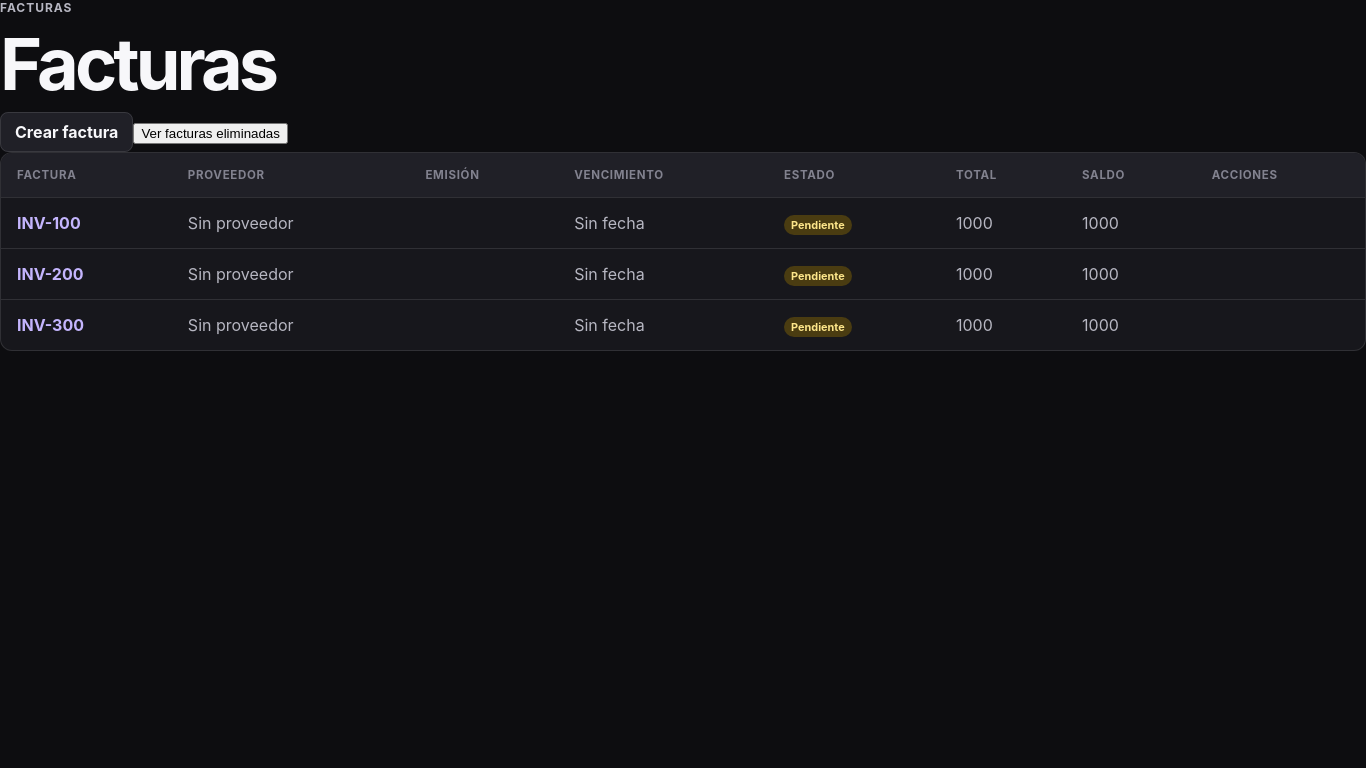
InvoiceListPage › shows retained invoices only through the deleted filter and restores them after confirmation
Expected: the link "INV-100" is shown, x1=17 y1=213 x2=81 y2=233
Click the button "Ver facturas eliminadas" at (211, 133), box x1=133 y1=123 x2=288 y2=144
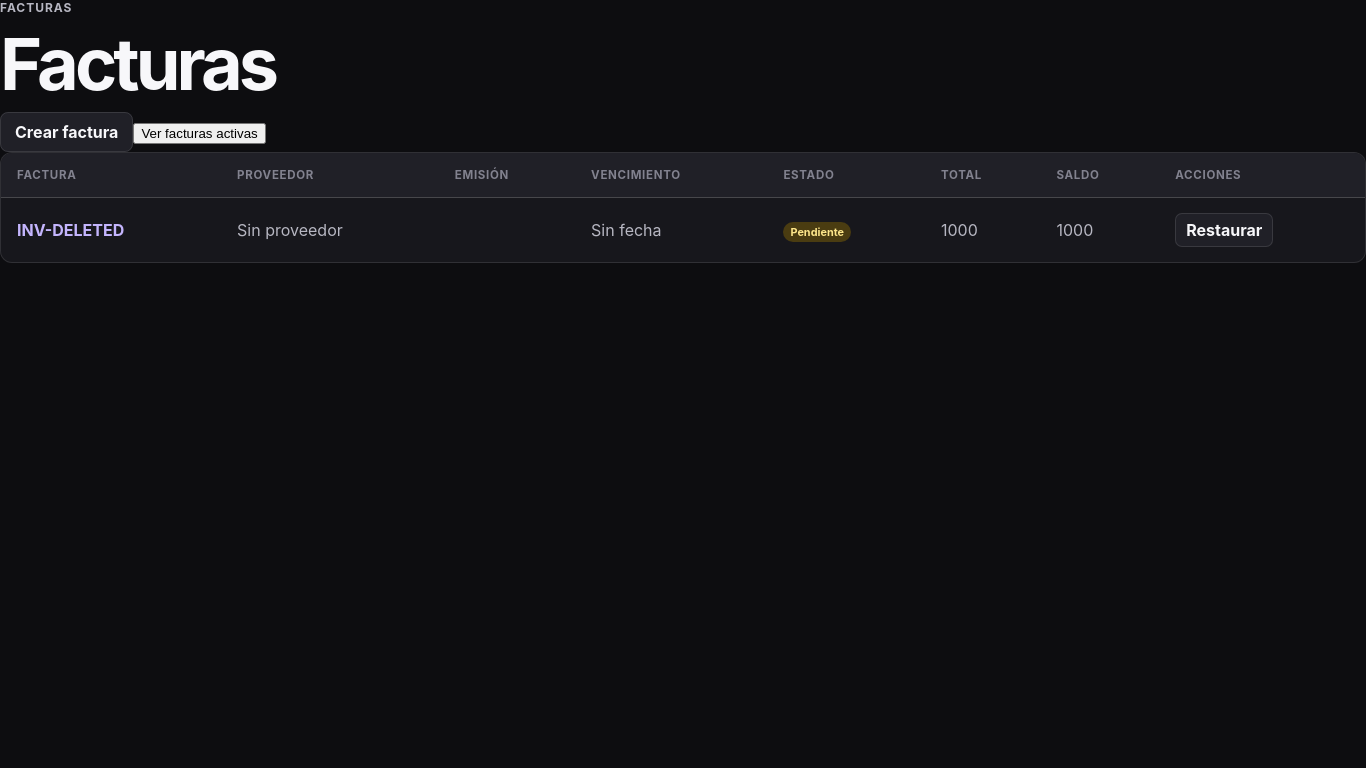
Now the link "INV-DELETED" is shown, box x1=17 y1=220 x2=124 y2=240
Now the link "INV-100" is gone
Click the button "Restaurar" at (1224, 230), box x1=1175 y1=213 x2=1273 y2=247
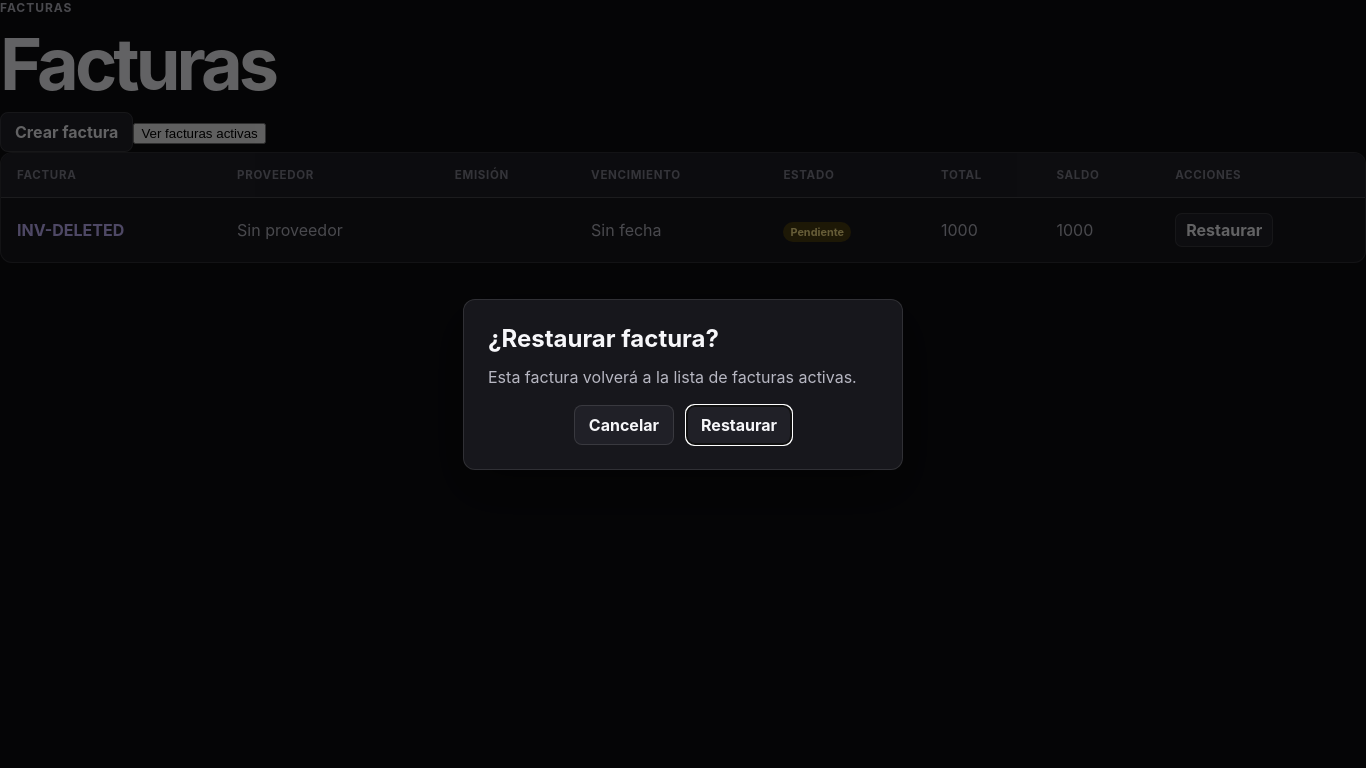
Now the dialog shows "¿Restaurar factura?", box x1=488 y1=324 x2=719 y2=352
Click the button "Restaurar" at (739, 424), box x1=686 y1=404 x2=792 y2=444
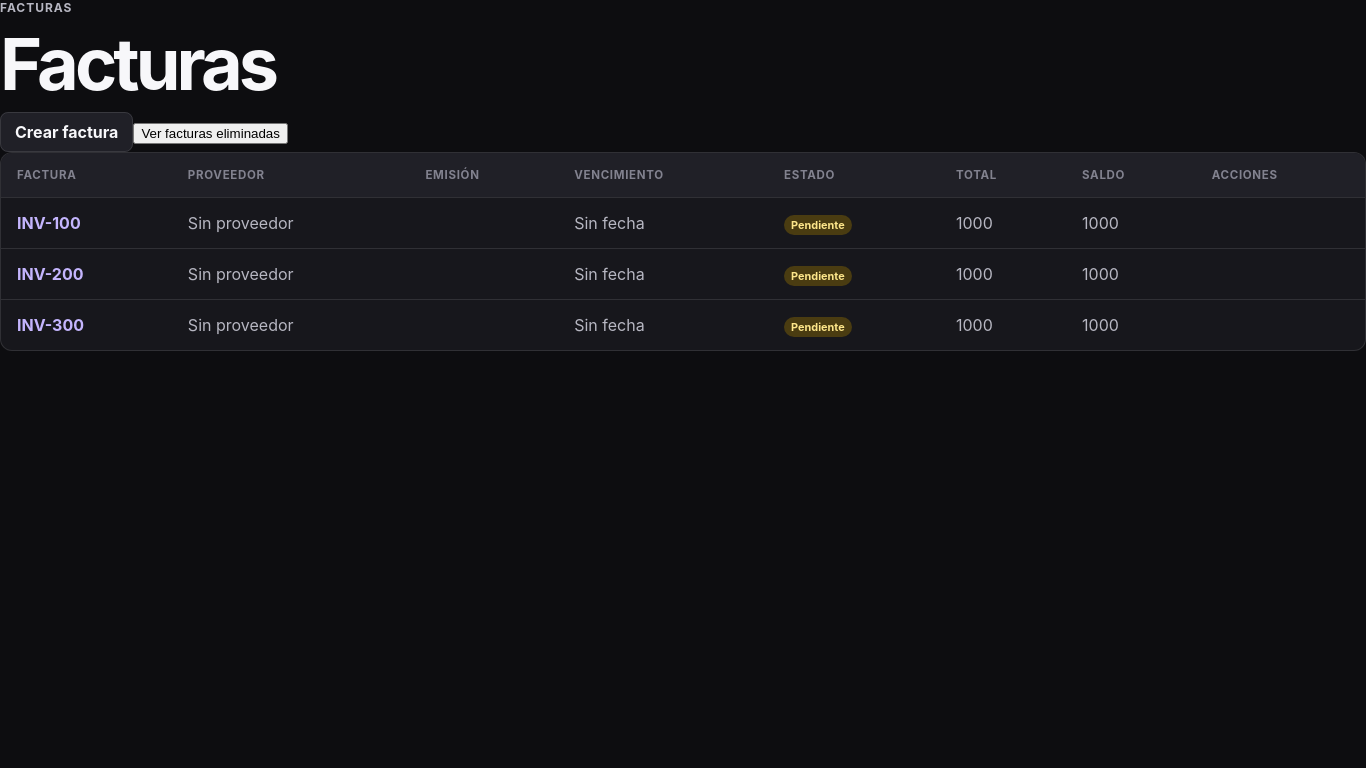
Now the link "INV-100" is shown, box x1=17 y1=213 x2=81 y2=233
